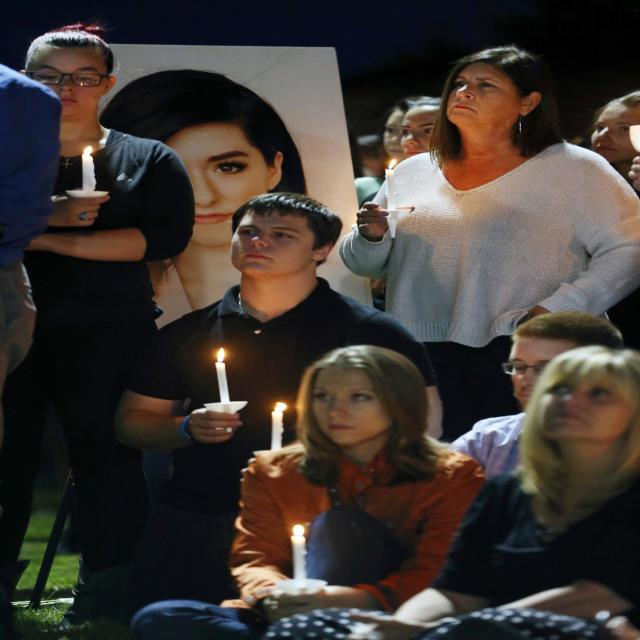body: (105, 188, 454, 603), (336, 42, 640, 444), (134, 345, 501, 640), (16, 23, 197, 602), (98, 69, 346, 334), (258, 342, 492, 616), (0, 52, 71, 604), (447, 313, 625, 479), (353, 93, 442, 178), (580, 93, 637, 174)
